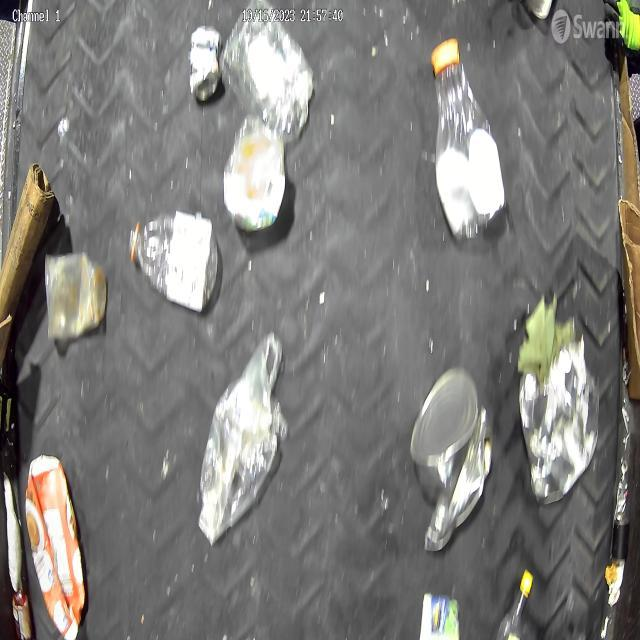can: (408, 363, 494, 554), (190, 24, 222, 106)
non_white_jug: (23, 451, 86, 640)
plastic_bottle: (430, 36, 508, 245), (128, 208, 220, 312)
